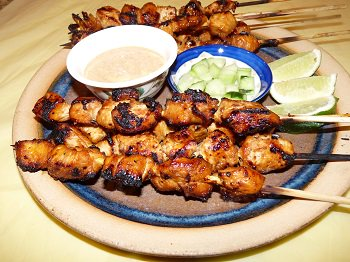sate: (10, 89, 350, 204)
